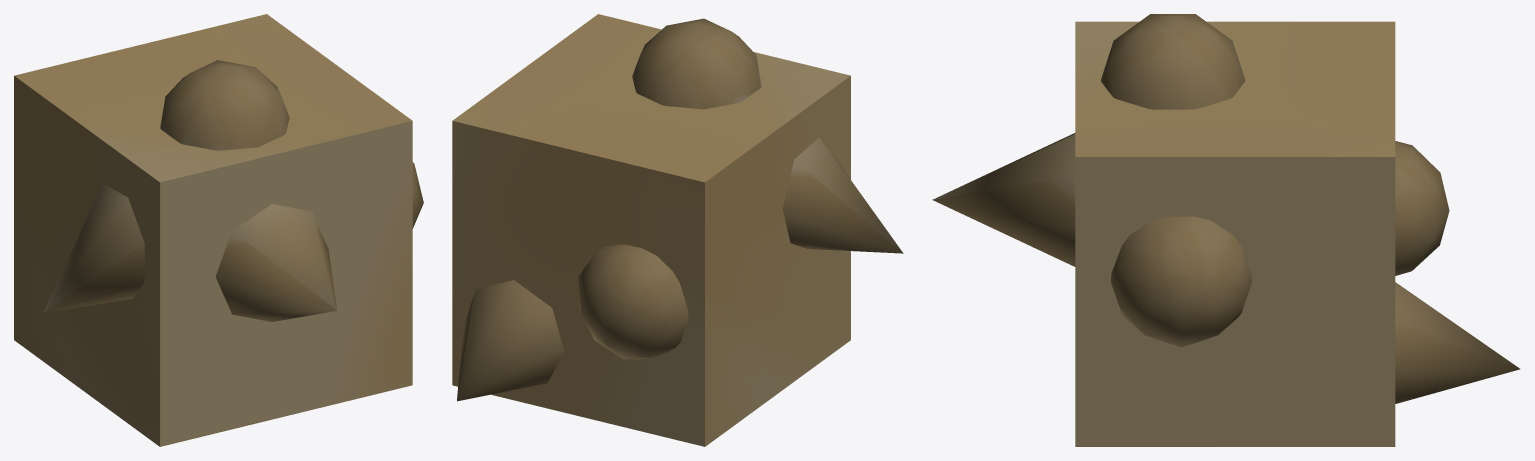
The model's file is amontoado-bloco-planeta2.obj.
The picture shows the model from 3 angles, left to right: view 1: azimuth 30°, elevation 25°; view 2: azimuth 150°, elevation 25°; view 3: azimuth 270°, elevation 25°; orthographic projection. The views are drawn at different scales.
Visible parts, largest first — view 1: Cube, Cone, Icosphere_Icosphere.001, Cone.001, Icosphere.001_Icosphere.002; view 2: Cube, Icosphere.002_Icosphere.003, Cone.002, Icosphere_Icosphere.001, Cone.001; view 3: Cube, Icosphere.001_Icosphere.002, Icosphere_Icosphere.001, Cone, Cone.002, Icosphere.002_Icosphere.003.
Boxes of the visible parts, x1,y1,x2,y2 form: Cube: (14, 14, 412, 446); Cone: (215, 204, 337, 321); Icosphere_Icosphere.001: (160, 60, 289, 150); Cone.001: (43, 183, 144, 312); Icosphere.001_Icosphere.002: (412, 162, 423, 228); Cube: (452, 14, 850, 446); Icosphere.002_Icosphere.003: (578, 244, 688, 359); Cone.002: (457, 280, 564, 401); Icosphere_Icosphere.001: (632, 18, 761, 109); Cone.001: (782, 137, 903, 253); Cube: (1075, 21, 1395, 446); Icosphere.001_Icosphere.002: (1111, 216, 1251, 347); Icosphere_Icosphere.001: (1101, 14, 1244, 109); Cone: (932, 133, 1075, 266); Cone.002: (1395, 282, 1520, 403); Icosphere.002_Icosphere.003: (1395, 141, 1449, 275).
Size of the model in its own units: 3.49 by 2.76 by 4.17.
